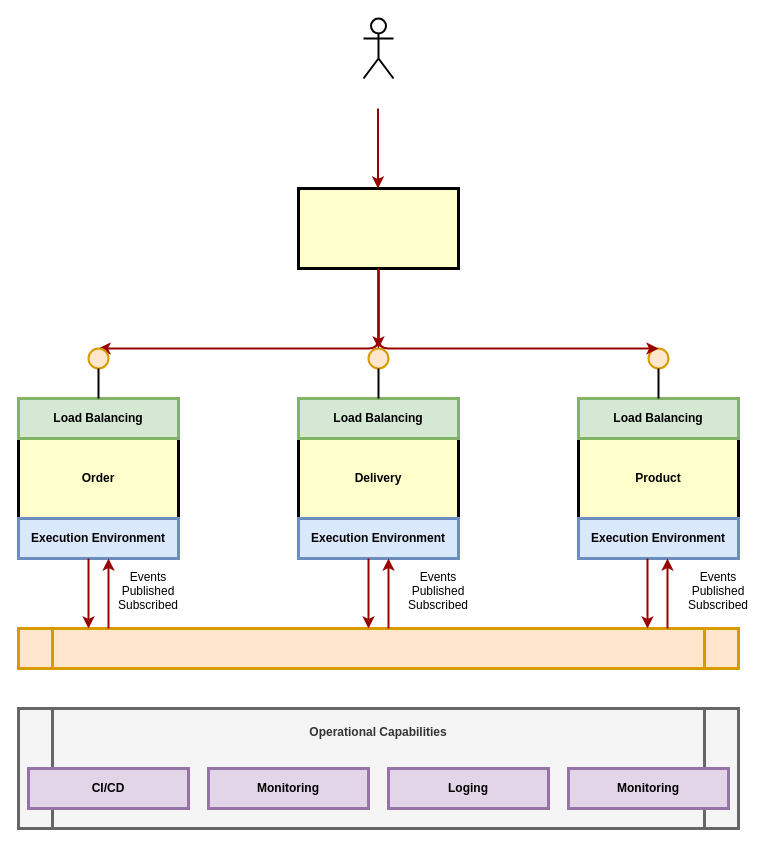
The diagram is 776 pixels wide and 847 high, and some of its shapes have lost their labels. Here are the shapes that lost their labels. From the top down, the centre of each, then its label:
At (378,48): "Actor".
At (378,228): "Gateway".
At (378,648): "Kafka (Messaging Channel)".
